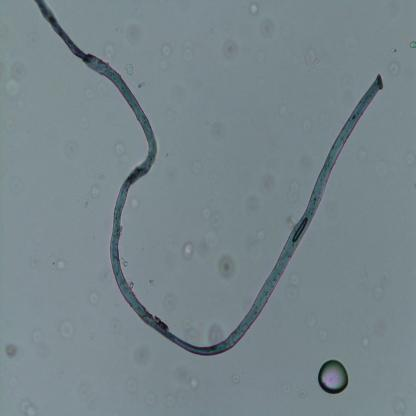Air bubble: (318, 359, 350, 396)
Background material: (3, 62, 26, 99), (200, 224, 223, 256), (154, 37, 177, 68), (124, 12, 144, 46), (239, 188, 261, 218), (281, 173, 300, 207), (284, 271, 302, 305), (132, 344, 156, 367), (60, 128, 78, 157), (309, 314, 328, 341), (388, 393, 410, 416), (302, 48, 320, 76), (176, 36, 196, 61), (159, 285, 176, 312), (84, 182, 104, 203), (218, 256, 236, 279), (106, 314, 124, 337), (356, 328, 373, 352), (260, 15, 276, 39), (180, 236, 194, 263), (207, 323, 224, 345), (102, 43, 120, 63), (222, 39, 238, 61), (59, 320, 75, 341), (20, 398, 35, 414), (114, 139, 126, 159), (188, 372, 200, 392), (197, 202, 213, 217), (4, 342, 18, 358), (247, 0, 260, 17), (88, 289, 101, 306), (404, 152, 416, 170), (280, 382, 293, 396), (124, 63, 136, 78), (130, 197, 141, 213), (56, 258, 67, 273), (390, 62, 400, 77), (409, 38, 416, 48)
Microfibre: (34, 0, 382, 359)
